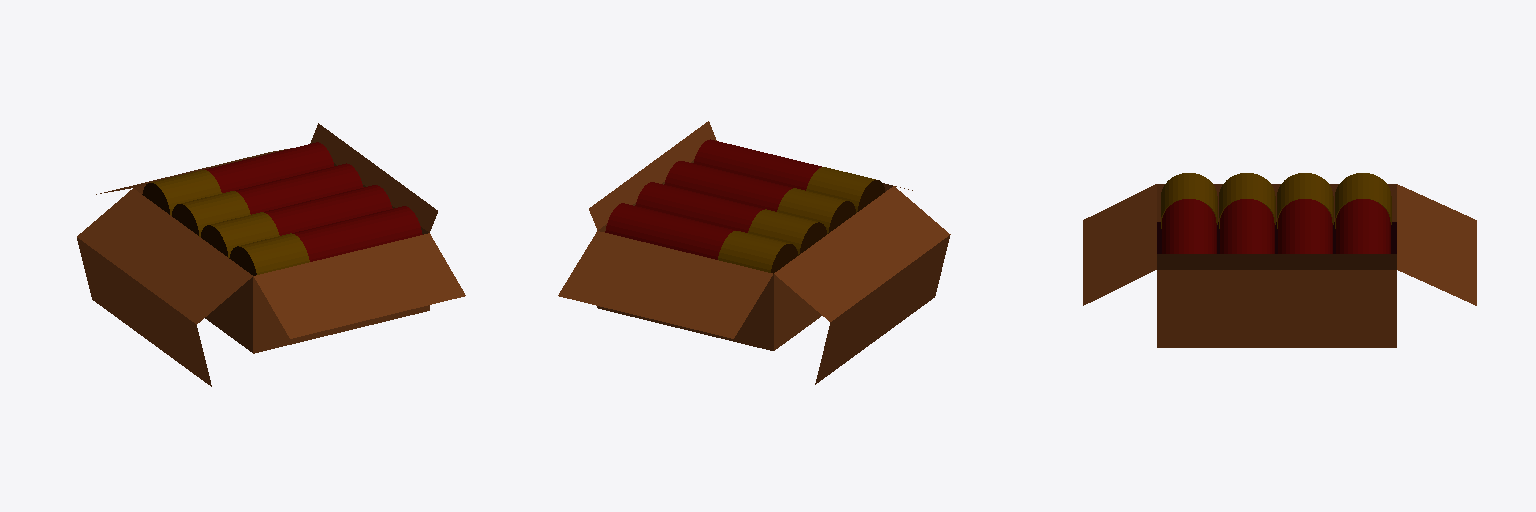
Rendered from Cartridges_12ga.obj.
3 views of the same model, side by side, from view 1: azimuth 30°, elevation 25°; view 2: azimuth 150°, elevation 25°; view 3: azimuth 270°, elevation 25° (orthographic).
Parts seen in each view (by area): view 1: Cube.001, Cylinder.003_Cylinder.007, Cylinder, Cylinder.002_Cylinder.006, Cylinder.001_Cylinder.005; view 2: Cube.001, Cylinder, Cylinder.001_Cylinder.005, Cylinder.003_Cylinder.007, Cylinder.002_Cylinder.006; view 3: Cube.001, Cylinder.003_Cylinder.007, Cylinder.002_Cylinder.006, Cylinder.001_Cylinder.005, Cylinder.
Part boxes in pixels (left/top/right/bottom): Cube.001: left=77, top=123, right=465, bottom=386; Cylinder.003_Cylinder.007: left=229, top=206, right=422, bottom=275; Cylinder: left=142, top=142, right=333, bottom=215; Cylinder.002_Cylinder.006: left=201, top=185, right=392, bottom=257; Cylinder.001_Cylinder.005: left=172, top=163, right=363, bottom=236; Cube.001: left=558, top=121, right=950, bottom=384; Cylinder: left=605, top=203, right=797, bottom=273; Cylinder.001_Cylinder.005: left=635, top=182, right=826, bottom=255; Cylinder.003_Cylinder.007: left=693, top=139, right=884, bottom=212; Cylinder.002_Cylinder.006: left=664, top=161, right=855, bottom=233; Cube.001: left=1083, top=184, right=1476, bottom=347; Cylinder.003_Cylinder.007: left=1161, top=173, right=1217, bottom=253; Cylinder.002_Cylinder.006: left=1219, top=173, right=1275, bottom=253; Cylinder.001_Cylinder.005: left=1277, top=173, right=1333, bottom=253; Cylinder: left=1335, top=173, right=1391, bottom=253.
Bounding box in the file's own units: 7.58 × 3.63 × 10.68.